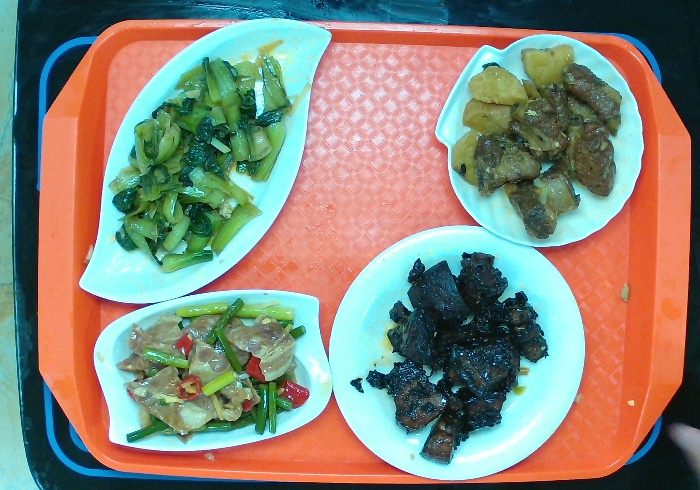RJxy-Bei_Ke_Wan: (435, 32, 644, 248)
RJxy-Jian_Jiao_Fang_Die: (90, 290, 337, 459)
RJxy-Jian_Jiao_Pan: (75, 22, 333, 301)
RJxy-Yuan_Pan: (331, 218, 595, 478)
